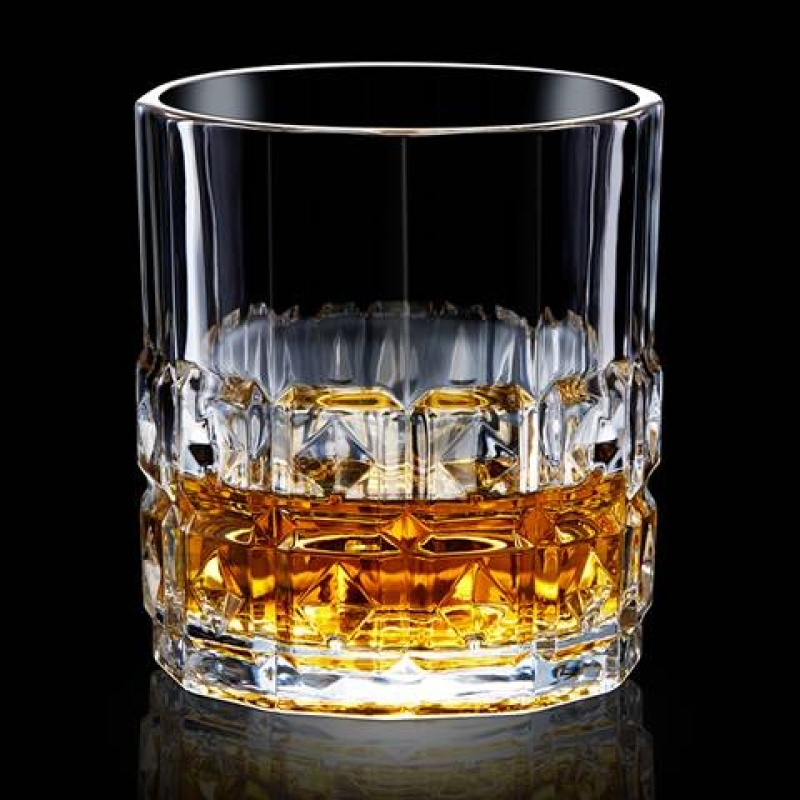whiskey: (130, 53, 639, 713)
